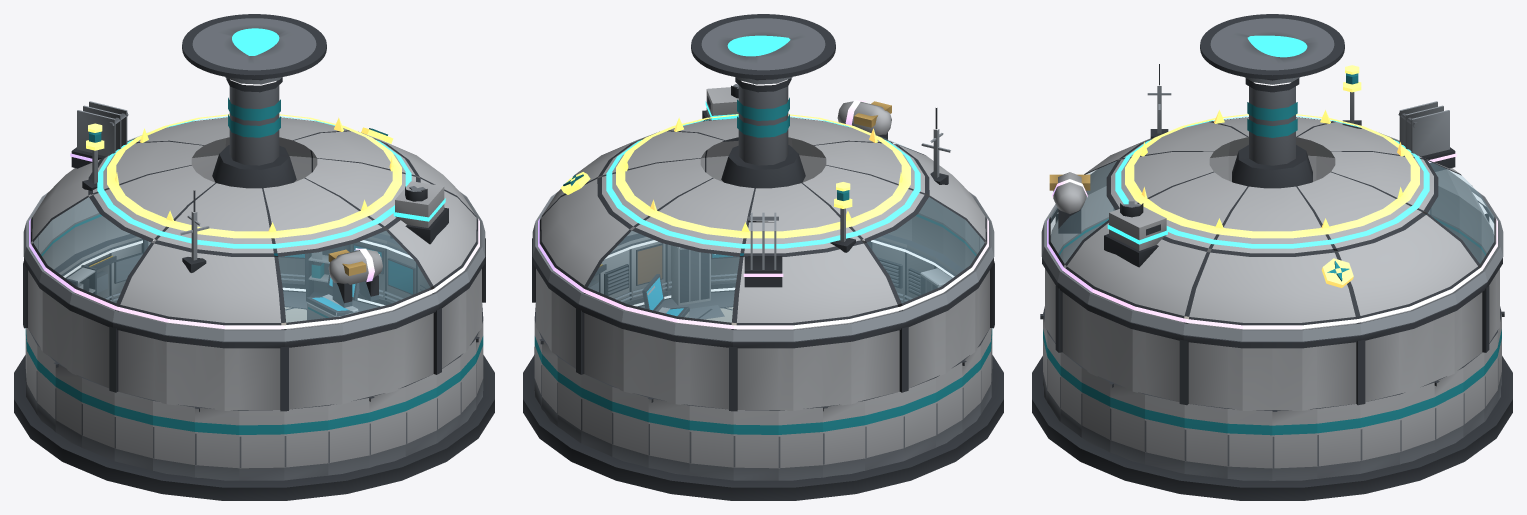
The model's file is oxygen_plant_s_far.glb.
3 renders of one model, left to right at view 1: azimuth 30°, elevation 25°; view 2: azimuth 150°, elevation 25°; view 3: azimuth 270°, elevation 25°, orthographic.
Parts seen in each view (by area): view 1: Roof, Base, L2, L4, L5, L3, Interior; view 2: Roof, Base, L2, L4, L5, L3, Interior; view 3: Roof, Base, L2, L4, L5, L3.
Boxes of the visible parts, bbox=[...] form: Roof: bbox=[23, 14, 485, 411]; Base: bbox=[14, 233, 494, 500]; L2: bbox=[23, 190, 485, 341]; L4: bbox=[29, 101, 479, 329]; L5: bbox=[82, 114, 401, 238]; L3: bbox=[97, 116, 448, 248]; Interior: bbox=[306, 273, 359, 320]; Roof: bbox=[532, 14, 994, 411]; Base: bbox=[523, 233, 1003, 500]; L2: bbox=[532, 108, 994, 341]; L4: bbox=[538, 100, 988, 329]; L5: bbox=[560, 114, 910, 252]; L3: bbox=[606, 84, 920, 248]; Interior: bbox=[642, 274, 724, 319]; Roof: bbox=[1042, 14, 1502, 410]; Base: bbox=[1032, 248, 1512, 500]; L2: bbox=[1041, 64, 1503, 341]; L4: bbox=[1047, 101, 1497, 329]; L5: bbox=[1125, 65, 1419, 287]; L3: bbox=[1104, 116, 1429, 267].
Bounding box in the file's own units: 8.13 × 6.63 × 8.13.
